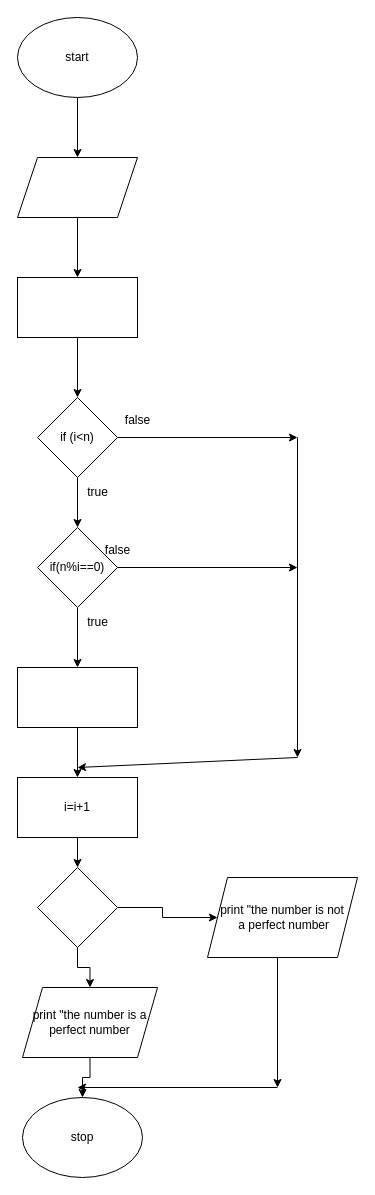
The diagram is 375 pixels wide and 1195 high, and some of its shapes have lost their labels. Here are the shapes that lost their labels. From the top down, the centre of each, then its label:
At (77,187): "read number n".
At (77,307): "initialize sum=0,i=1".
At (77,697): "sum=sum+i".
At (77,907): "sum==n".
